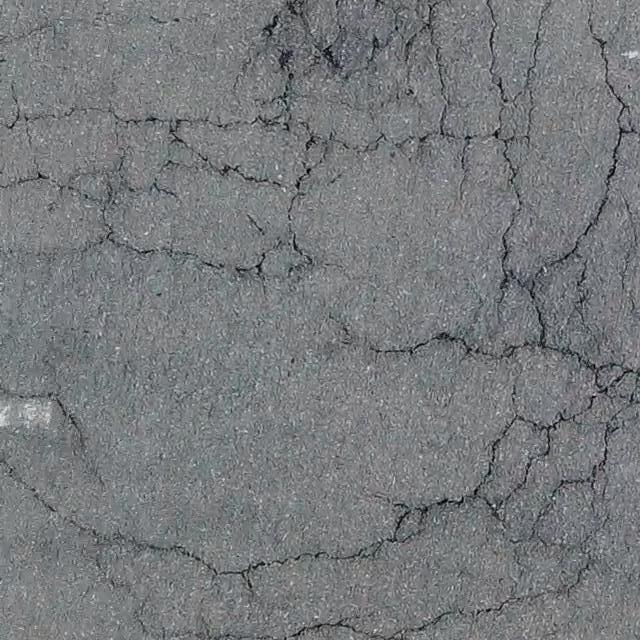GRIETA: (0, 457, 97, 534), (0, 385, 85, 449)
PIEL DE COCODRILO: (0, 0, 639, 380), (86, 376, 639, 639)
